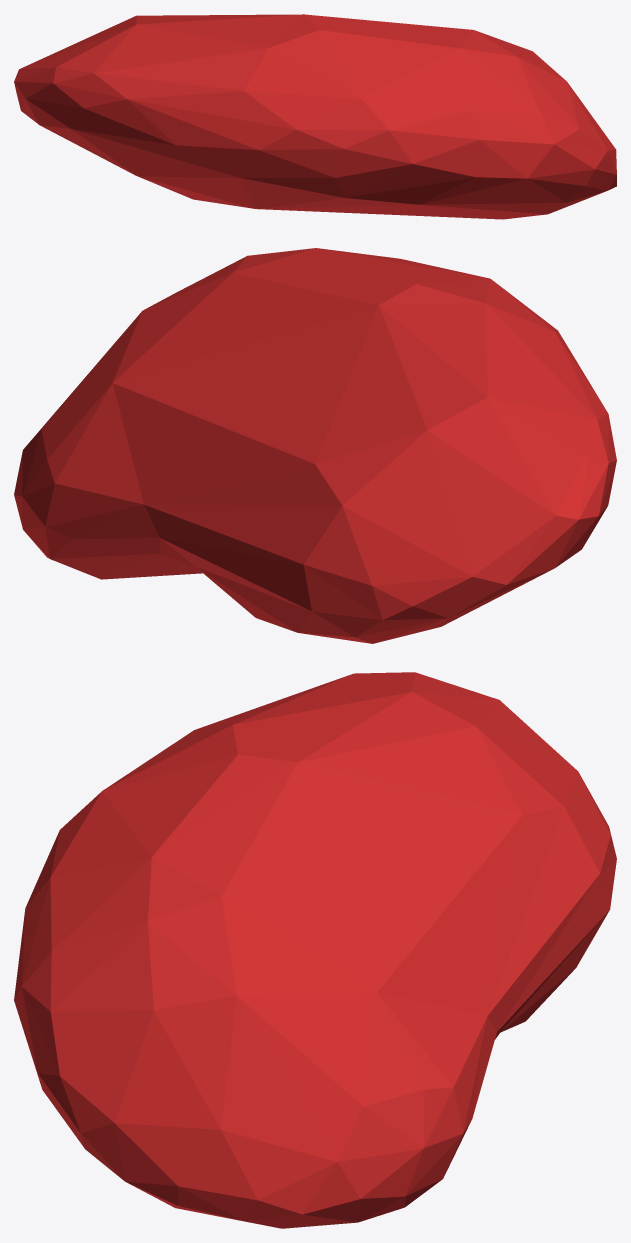
The model's file is rubedo.gltf.
3 views of the same model, one above another, from view 1: azimuth 30°, elevation 25°; view 2: azimuth 150°, elevation 25°; view 3: azimuth 270°, elevation 25° (orthographic). The views are drawn at different scales.
Visible parts, largest first — view 1: rubedo; view 2: rubedo; view 3: rubedo.
Part boxes in pixels (x1,y1,x2,y2): rubedo: (14, 14, 616, 219); rubedo: (14, 248, 616, 643); rubedo: (14, 672, 616, 1228).
Bounding box in the file's own units: 5.28 × 2.37 × 4.05.
